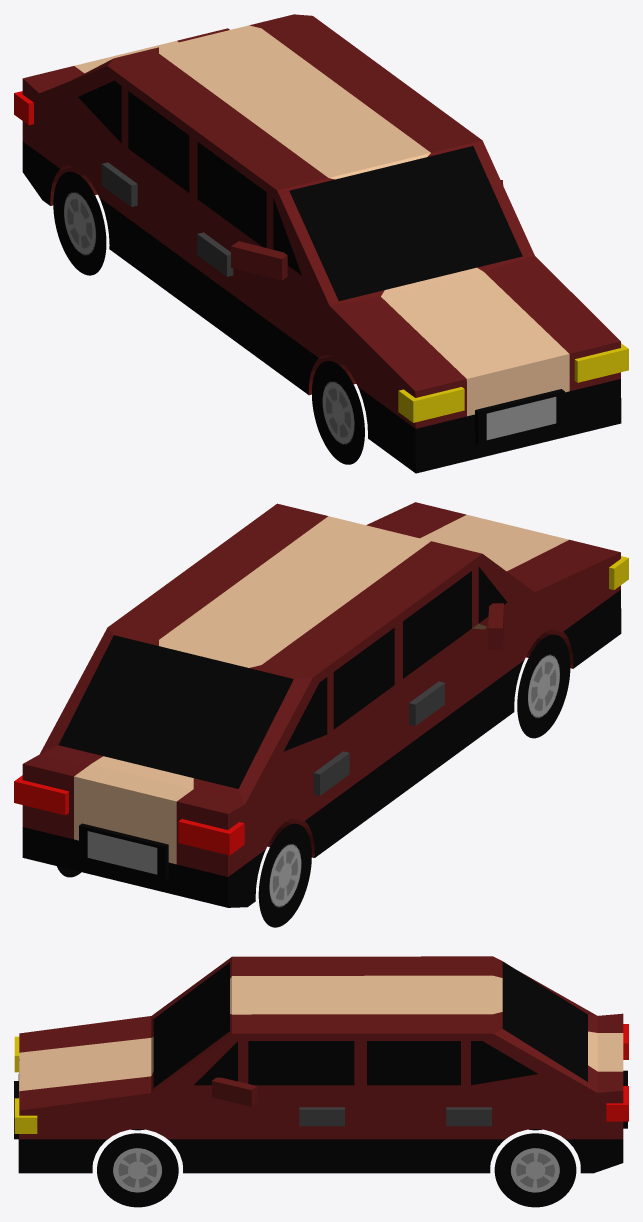
Rendered from Mobil_8_Merah_D.fbx.
3 renders of one model, top to bottom at view 1: azimuth 30°, elevation 25°; view 2: azimuth 150°, elevation 25°; view 3: azimuth 270°, elevation 25°, orthographic. The views are drawn at different scales.
Visible parts, largest first — view 1: Mobil1.001; view 2: Mobil1.001; view 3: Mobil1.001.
Part boxes in pixels (<box>): Mobil1.001: <box>14,14,628,473</box>; Mobil1.001: <box>14,502,628,927</box>; Mobil1.001: <box>14,956,628,1207</box>.
Bounding box in the file's own units: 529 × 421 × 1348.
6 materials, 4 textured.
